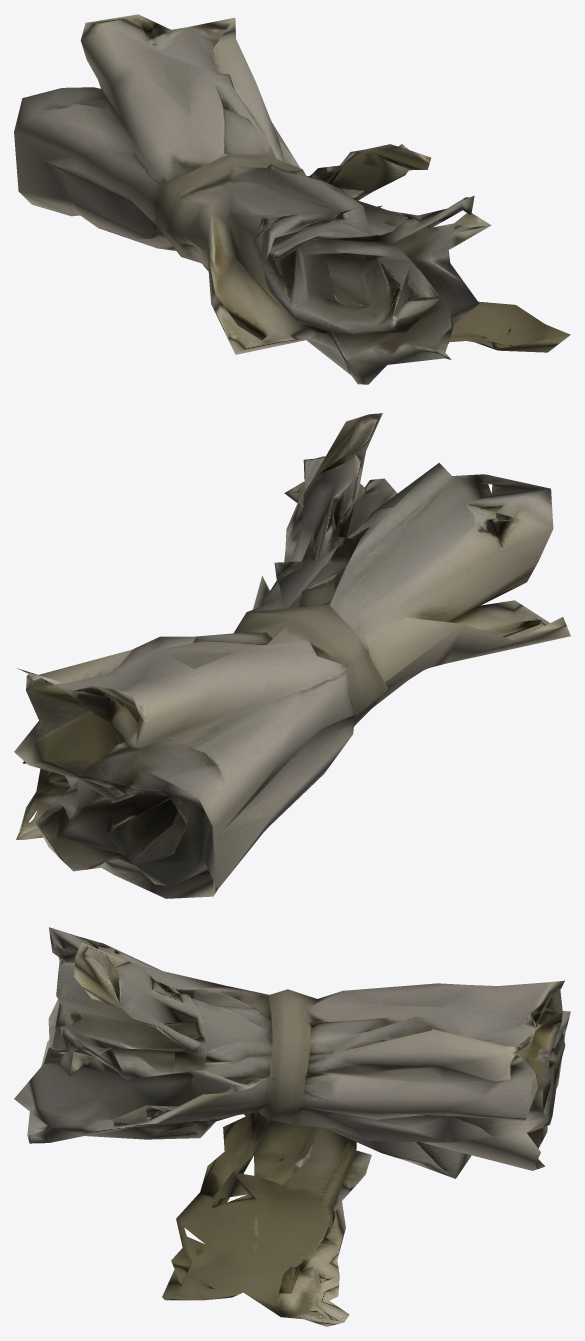
Rendered from rags_bundle.glb.
The picture shows the model from 3 angles, top to bottom: view 1: azimuth 30°, elevation 25°; view 2: azimuth 150°, elevation 25°; view 3: azimuth 270°, elevation 25°; orthographic projection. The views are drawn at different scales.
Visible parts, largest first — view 1: rags_bundle; view 2: rags_bundle; view 3: rags_bundle.
Boxes of the visible parts, x1,y1,x2,y2 form: rags_bundle: (14, 14, 570, 384); rags_bundle: (14, 413, 570, 898); rags_bundle: (14, 927, 570, 1326).
Size of the model in its own units: 0.1482 by 0.1182 by 0.2.
Materials: 1 (1 with a texture image).
